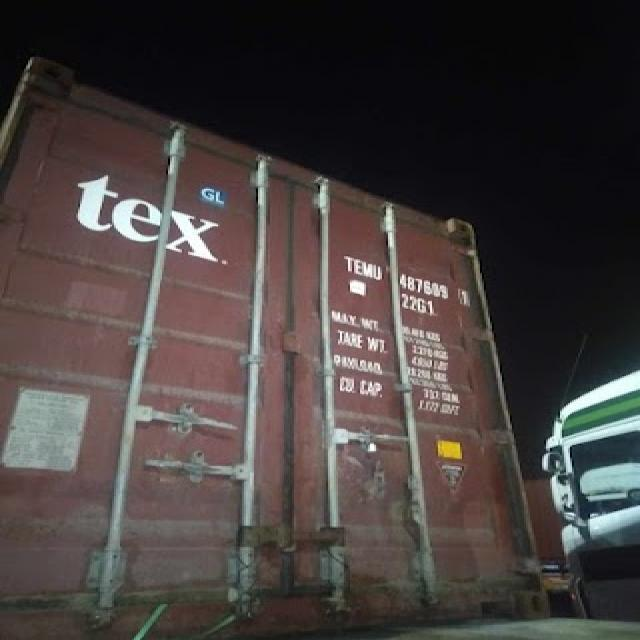ISO: (397, 295, 452, 315)
container_number: (340, 254, 476, 304)
